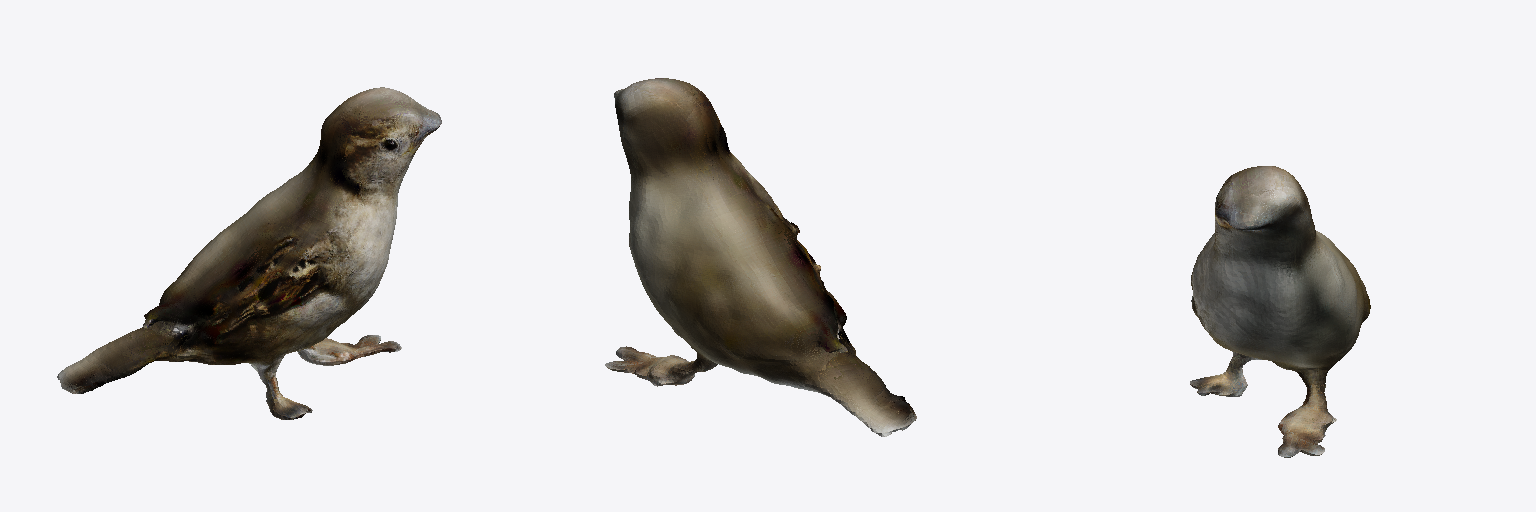
3 views of the same model, side by side, from view 1: azimuth 30°, elevation 25°; view 2: azimuth 150°, elevation 25°; view 3: azimuth 270°, elevation 25° (orthographic).
Bounding box in the file's own units: 1.18 × 0.9435 × 0.5515.
1 materials, 1 textured.